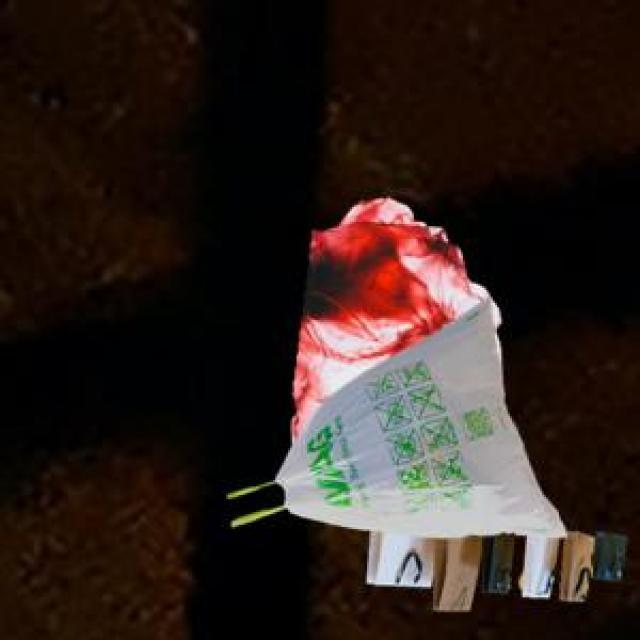paper: (364, 526, 623, 606)
